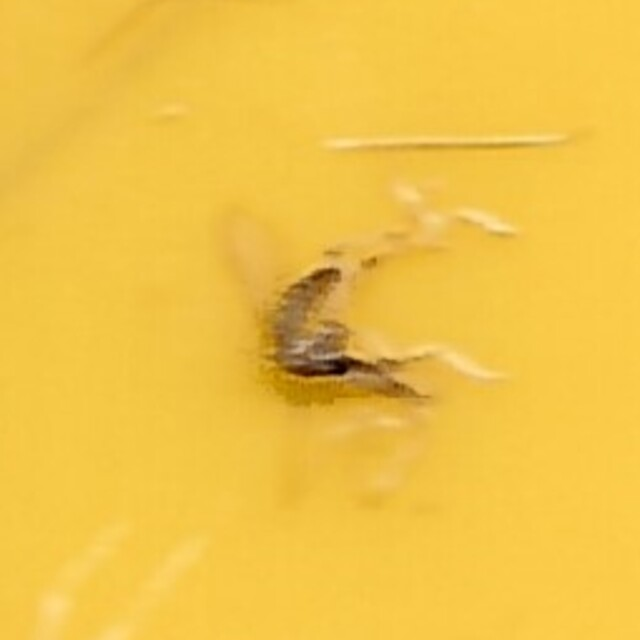Nematocera: (251, 240, 389, 400)
